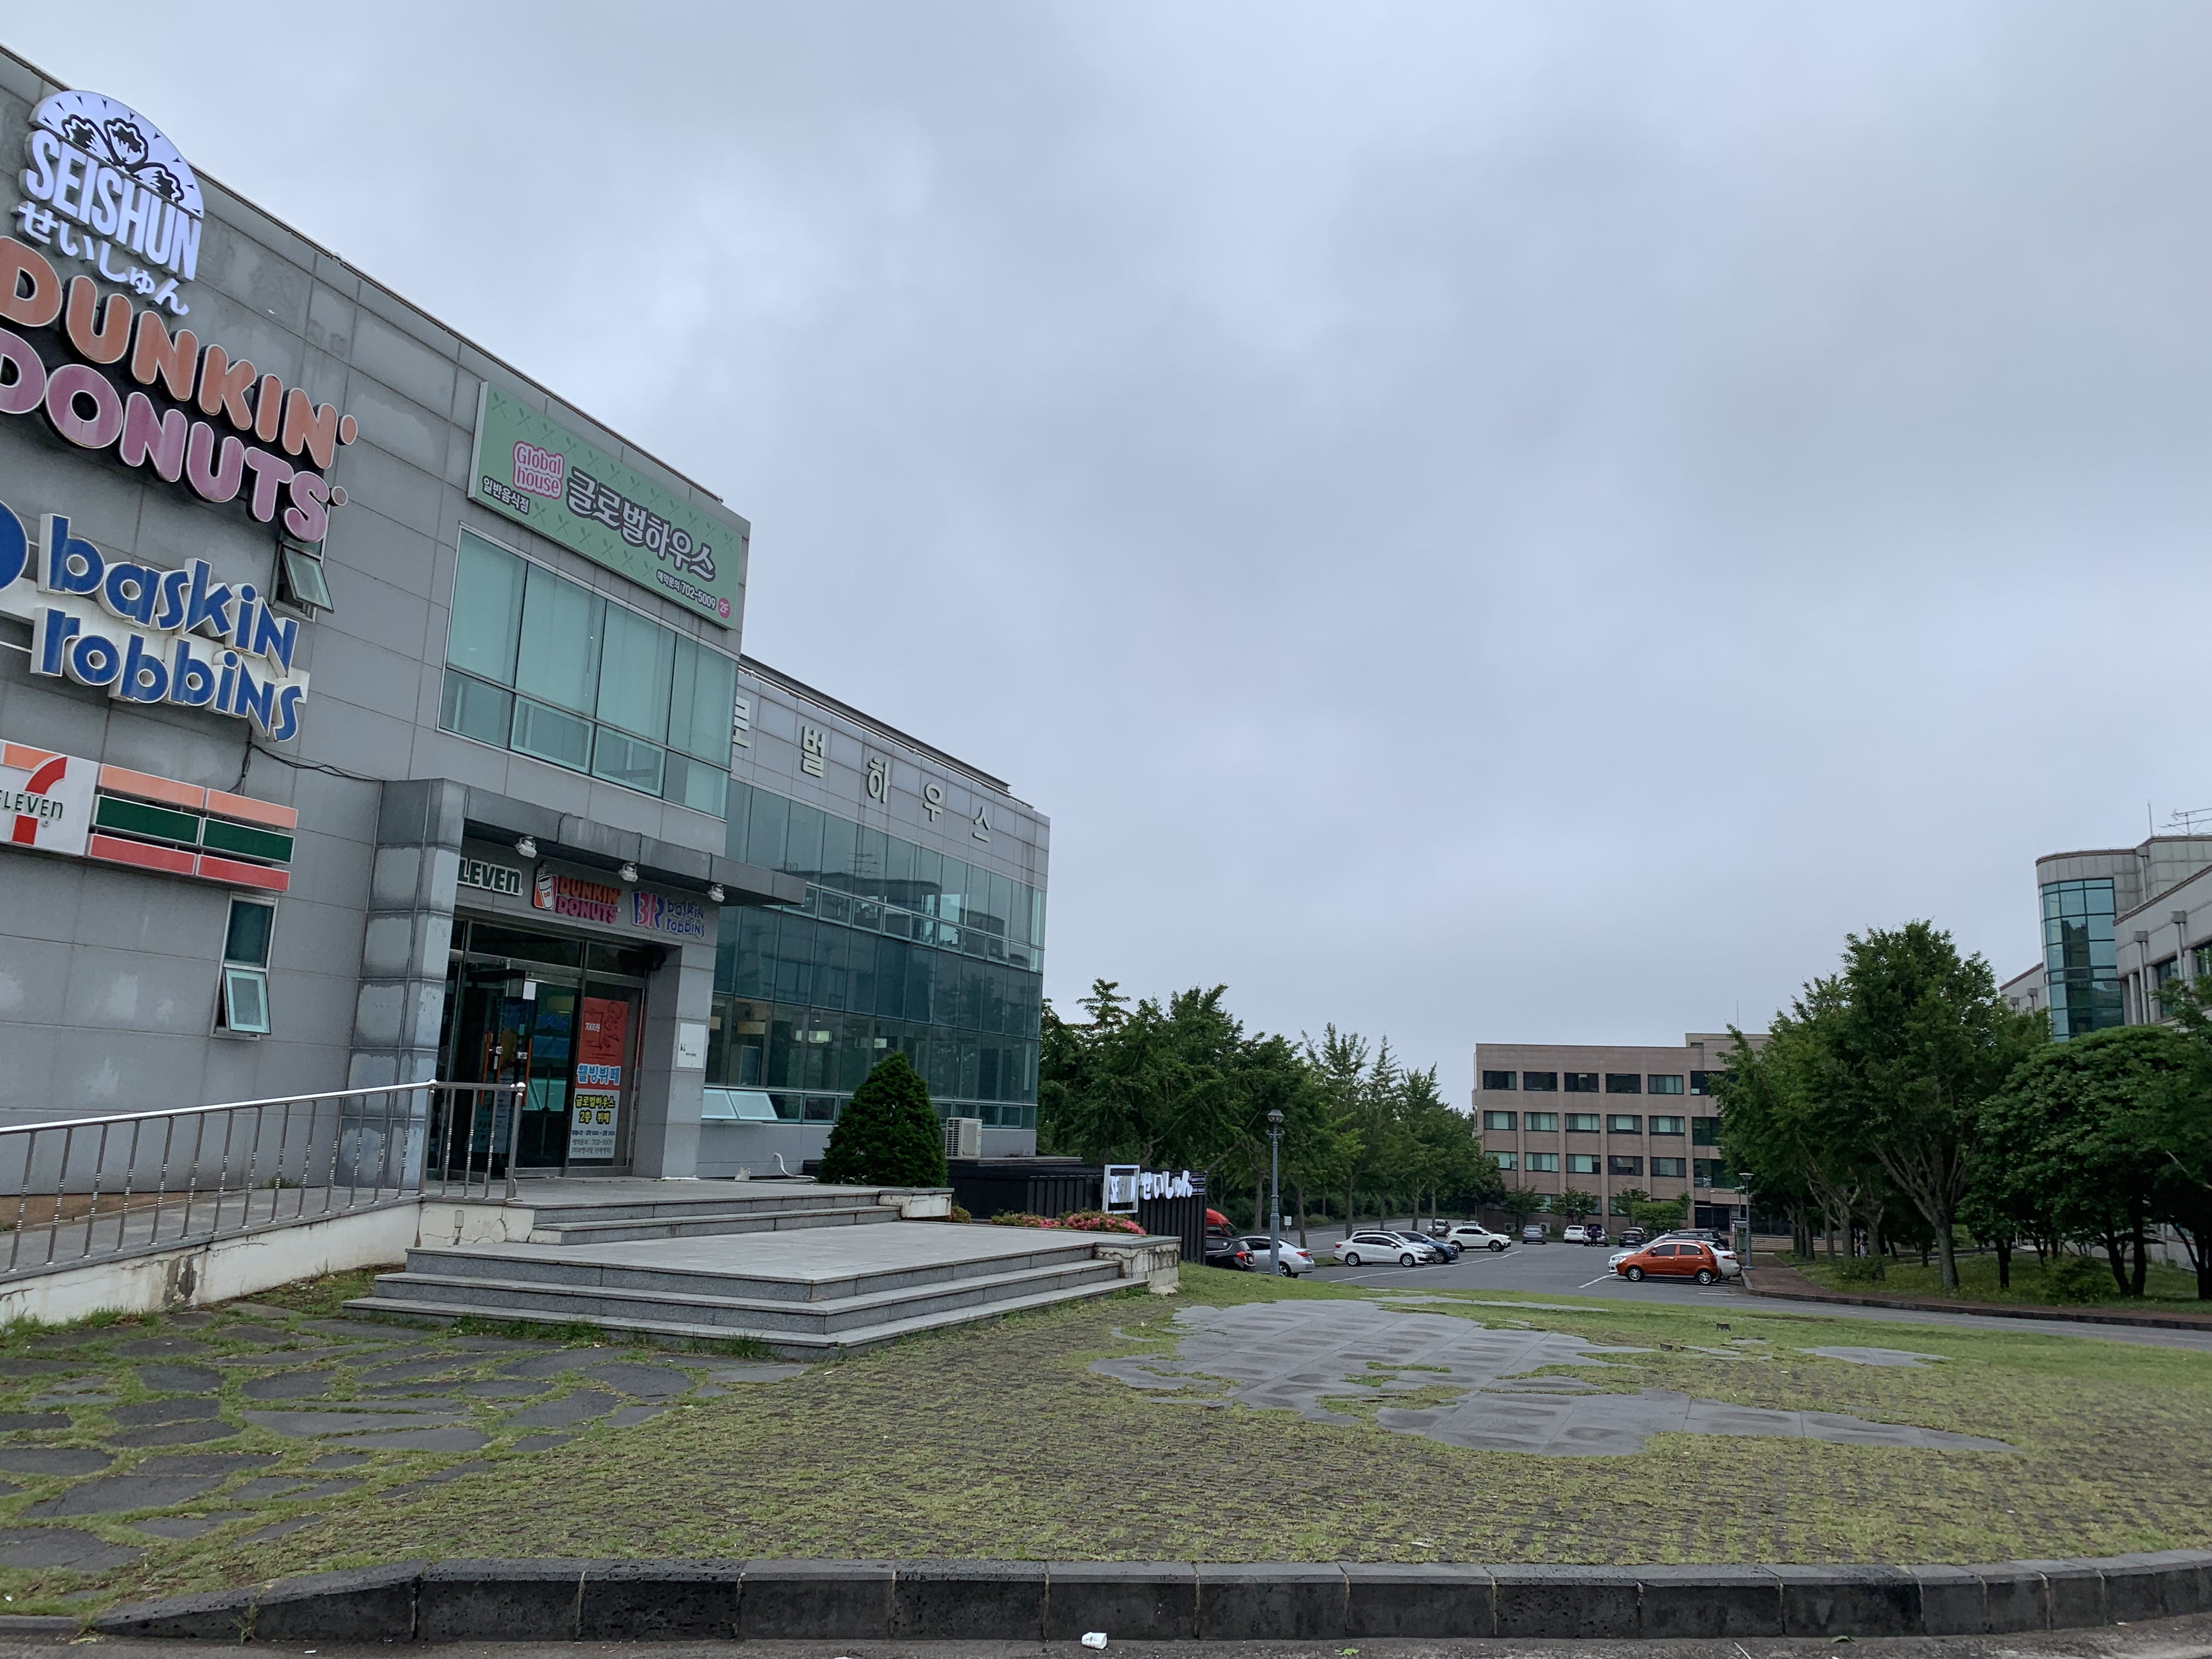Global House: (19, 131, 1089, 1361)
Joint Experimental Labs: (1454, 1007, 1810, 1248)
Second Library: (1946, 800, 2212, 1037)
